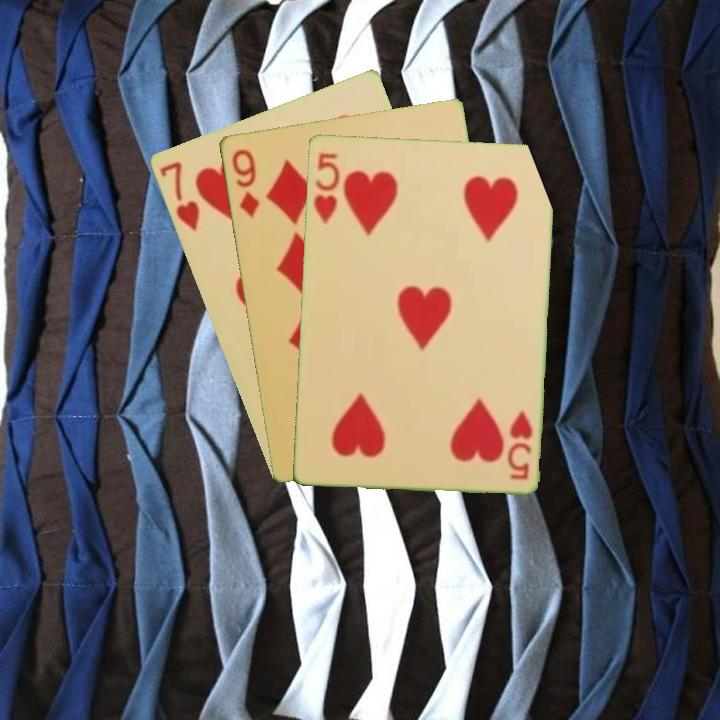5h: (310, 149, 343, 226), (503, 407, 535, 482)
7h: (155, 157, 202, 235)
9d: (228, 145, 262, 220)
